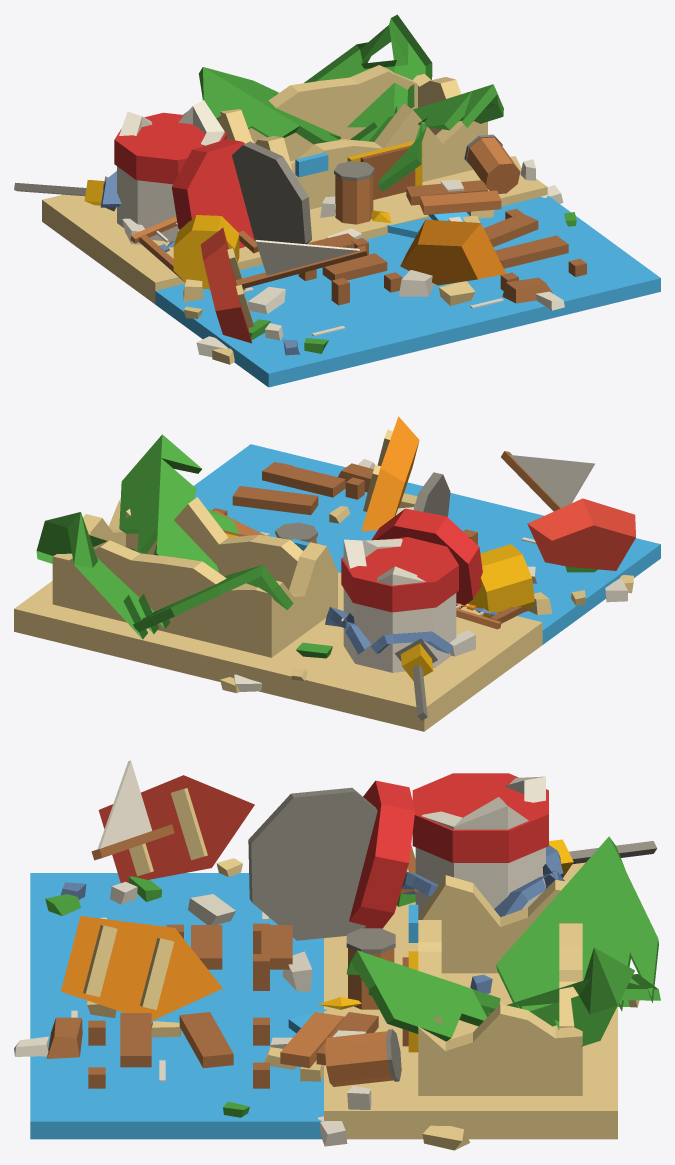
Rendered from fishery_t3_v2_dmg2.glb.
The picture shows the model from 3 angles, top to bottom: view 1: azimuth 30°, elevation 25°; view 2: azimuth 150°, elevation 25°; view 3: azimuth 270°, elevation 25°; orthographic projection. The views are drawn at different scales.
Visible parts, largest first — view 1: fishery_t3_v2_dmg2; view 2: fishery_t3_v2_dmg2; view 3: fishery_t3_v2_dmg2.
Part boxes in pixels (x1,y1,x2,y2): fishery_t3_v2_dmg2: [14, 14, 660, 387]; fishery_t3_v2_dmg2: [14, 416, 660, 731]; fishery_t3_v2_dmg2: [14, 760, 660, 1150].
Bounding box in the file's own units: 0.8291 × 0.2347 × 0.8257.
Materials: 1 (1 with a texture image).
